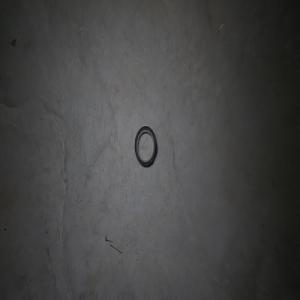Tape: (134, 125, 157, 167)
